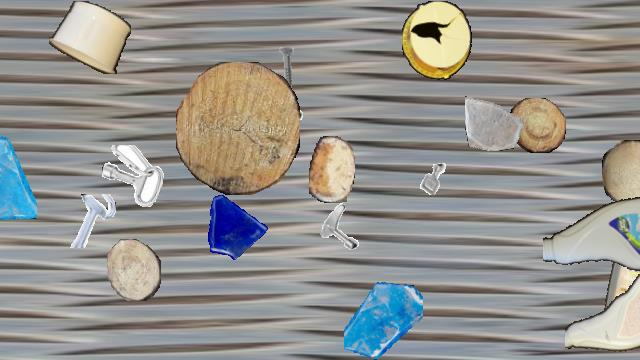glass: (344, 281, 422, 359), (198, 189, 268, 259), (0, 130, 37, 224), (465, 92, 523, 150)
metal: (251, 99, 313, 161), (102, 145, 164, 207), (64, 194, 118, 248), (314, 200, 368, 254), (263, 45, 311, 93), (412, 157, 456, 201), (0, 202, 8, 252)
plastic: (543, 176, 640, 280), (565, 257, 640, 359), (49, 1, 131, 73), (402, 1, 472, 79), (599, 217, 640, 339)
wood: (176, 62, 300, 194), (107, 239, 161, 301), (309, 136, 355, 202), (509, 98, 565, 152), (602, 140, 640, 204)
